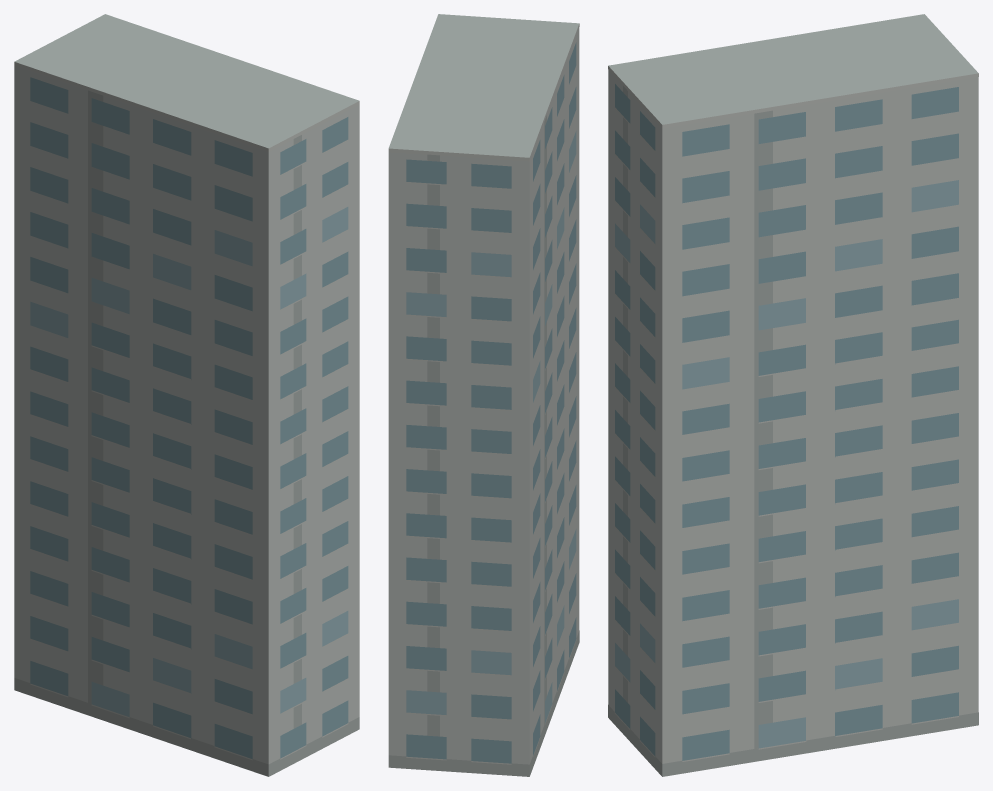
Rendered from residential-2eb87f6d-df2e-4522-8587-271b297ecafb.glb.
The picture shows the model from 3 angles, left to right: view 1: azimuth 30°, elevation 25°; view 2: azimuth 150°, elevation 25°; view 3: azimuth 270°, elevation 25°; orthographic projection. The views are drawn at different scales.
Visible parts, largest first — view 1: residential-2eb87f6d-df2e-4522-8587-271b297ecafb.tmp; view 2: residential-2eb87f6d-df2e-4522-8587-271b297ecafb.tmp; view 3: residential-2eb87f6d-df2e-4522-8587-271b297ecafb.tmp.
Part boxes in pixels (x1,y1,x2,y2): residential-2eb87f6d-df2e-4522-8587-271b297ecafb.tmp: (14, 14, 359, 776); residential-2eb87f6d-df2e-4522-8587-271b297ecafb.tmp: (388, 14, 579, 776); residential-2eb87f6d-df2e-4522-8587-271b297ecafb.tmp: (608, 14, 978, 776).
Bounding box in the file's own units: 15.7 × 43 × 22.16.
